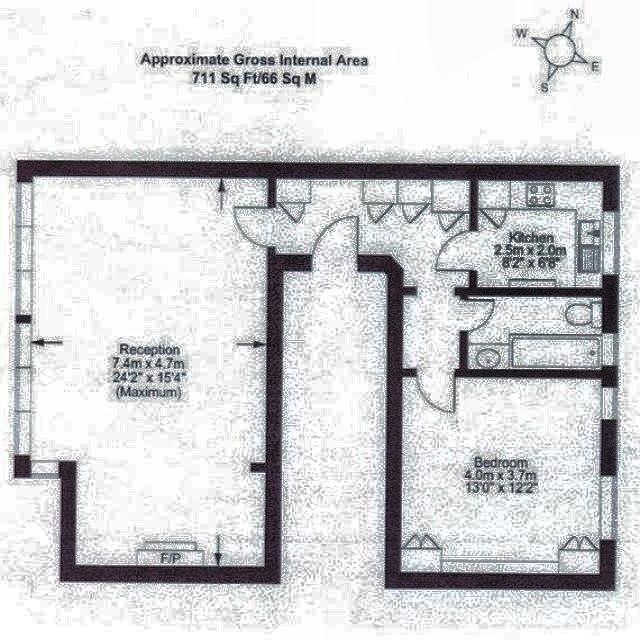room: (29, 175, 270, 567), (402, 379, 600, 574), (276, 179, 470, 287), (479, 182, 602, 288), (469, 297, 602, 369), (403, 296, 460, 368)
